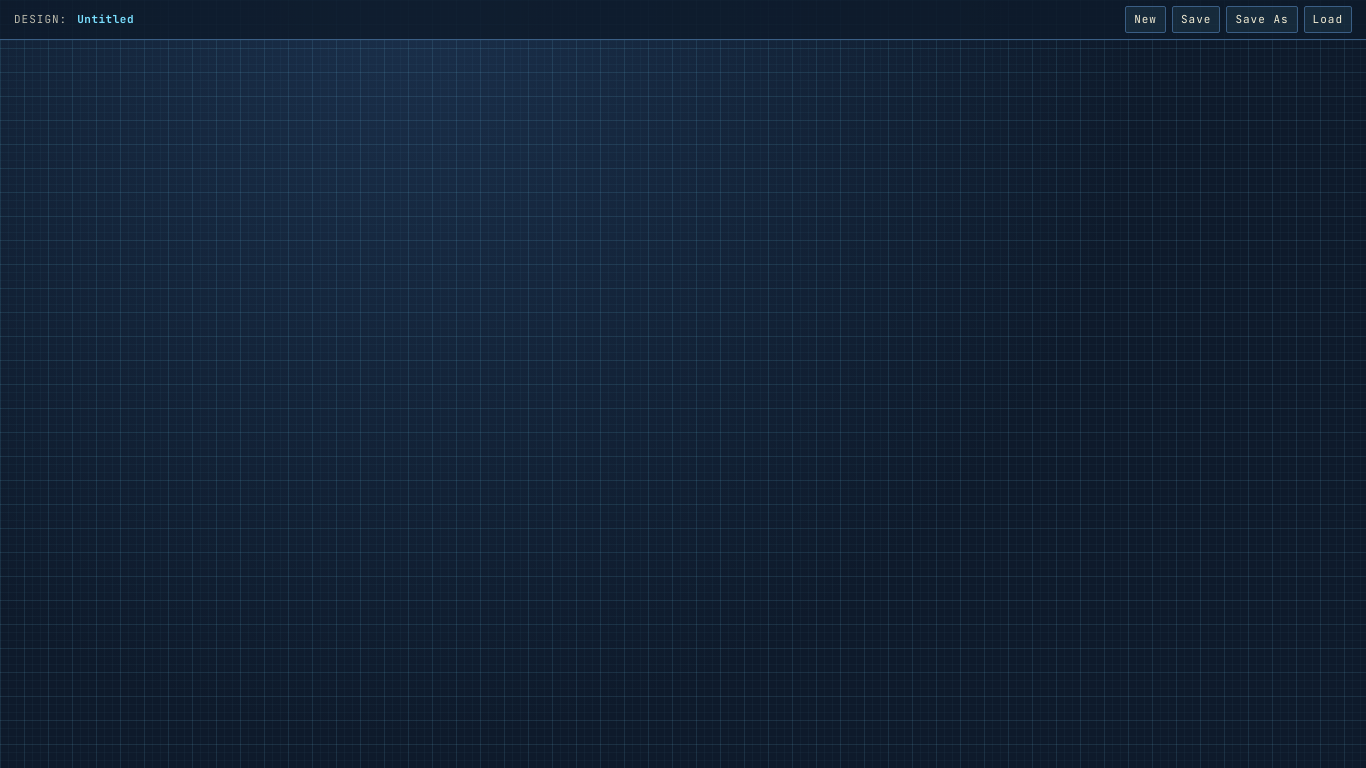
Test: SaveLoadBar › clicking Load shows the load list
Click the button "Load". click: (1328, 19)
box: [1304,6,1352,32]
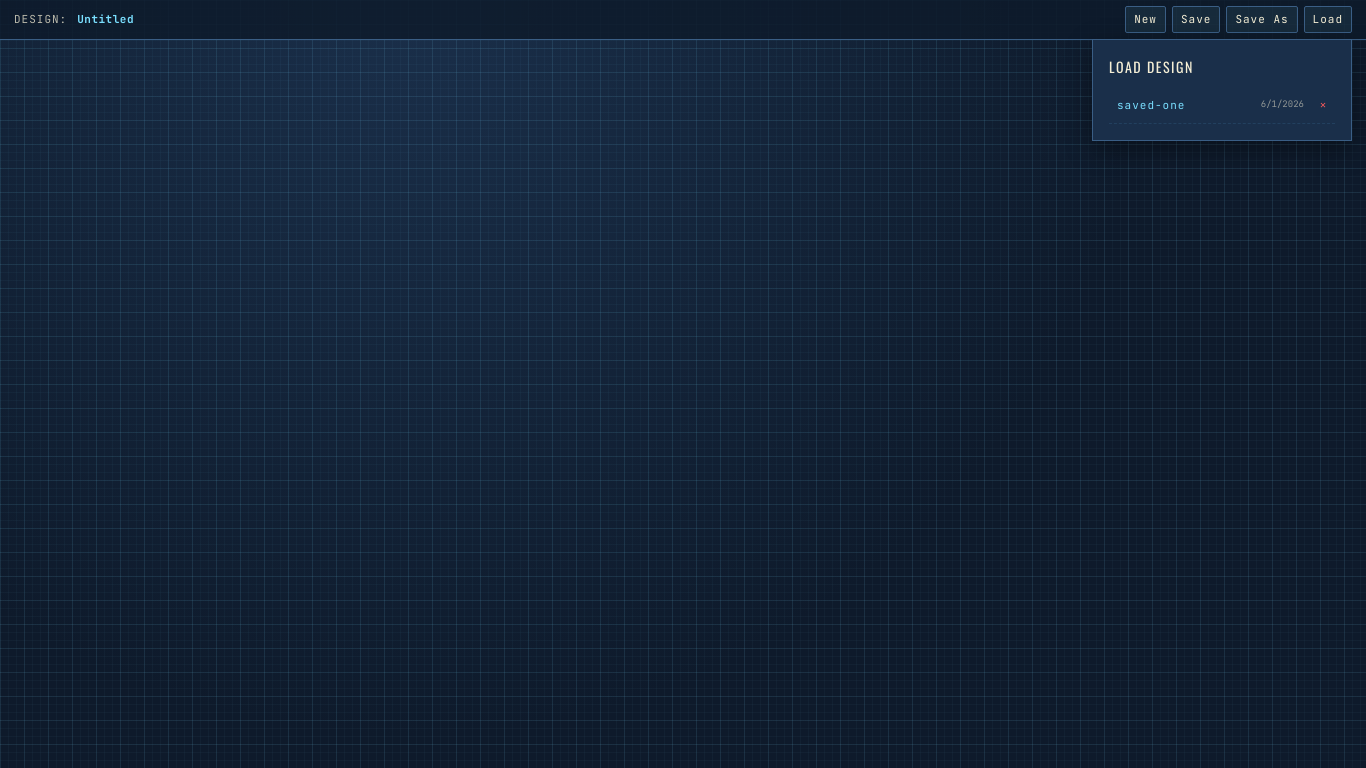
Expected: the heading "Load Design" is shown, [1109,56,1194,76]
Expected: the button "saved-one" is shown, [1109,92,1253,117]
